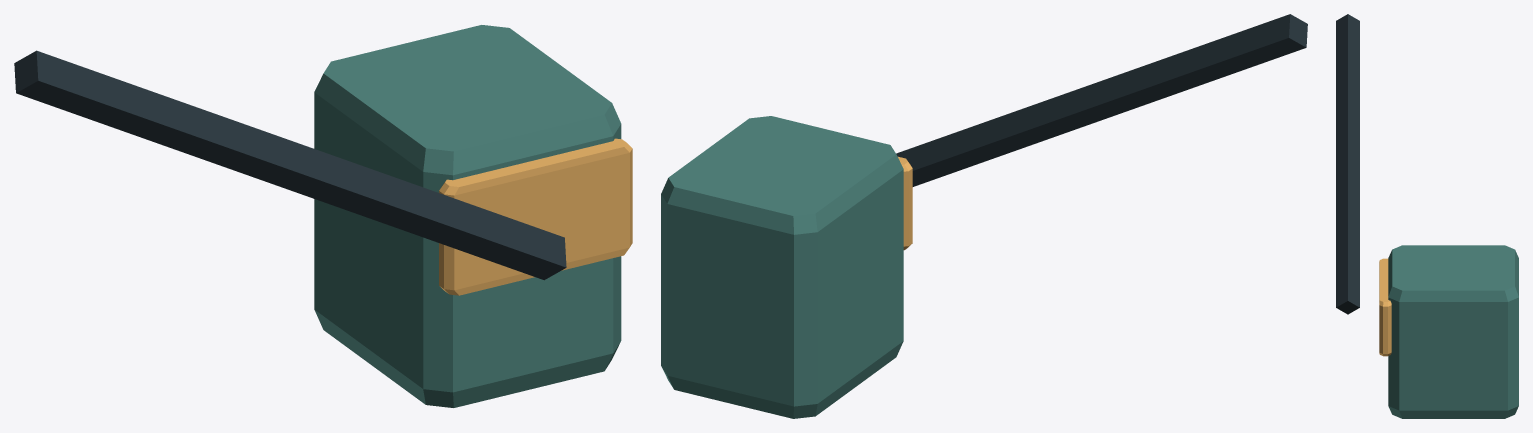
The model's file is SM_NPC_ACCESSORY_003_Satchel.glb.
The picture shows the model from 3 angles, left to right: view 1: azimuth 30°, elevation 25°; view 2: azimuth 150°, elevation 25°; view 3: azimuth 270°, elevation 25°; orthographic projection. The views are drawn at different scales.
Visible parts, largest first — view 1: SM_NPC_ACCESSORY_003_Satchel; view 2: SM_NPC_ACCESSORY_003_Satchel; view 3: SM_NPC_ACCESSORY_003_Satchel.
Part boxes in pixels (x1,y1,x2,y2): SM_NPC_ACCESSORY_003_Satchel: [14, 25, 632, 407]; SM_NPC_ACCESSORY_003_Satchel: [661, 14, 1307, 418]; SM_NPC_ACCESSORY_003_Satchel: [1336, 14, 1518, 418].
Bounding box in the file's own units: 0.6959 × 0.5091 × 0.336.
